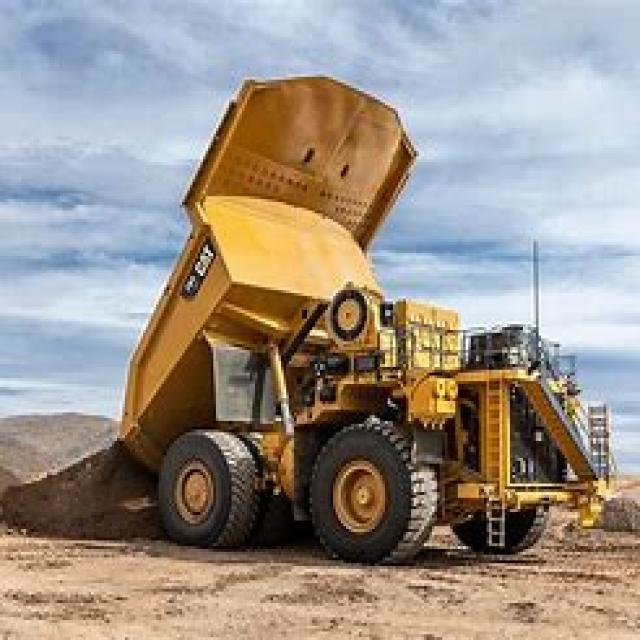dump_truck: (109, 62, 619, 574)
